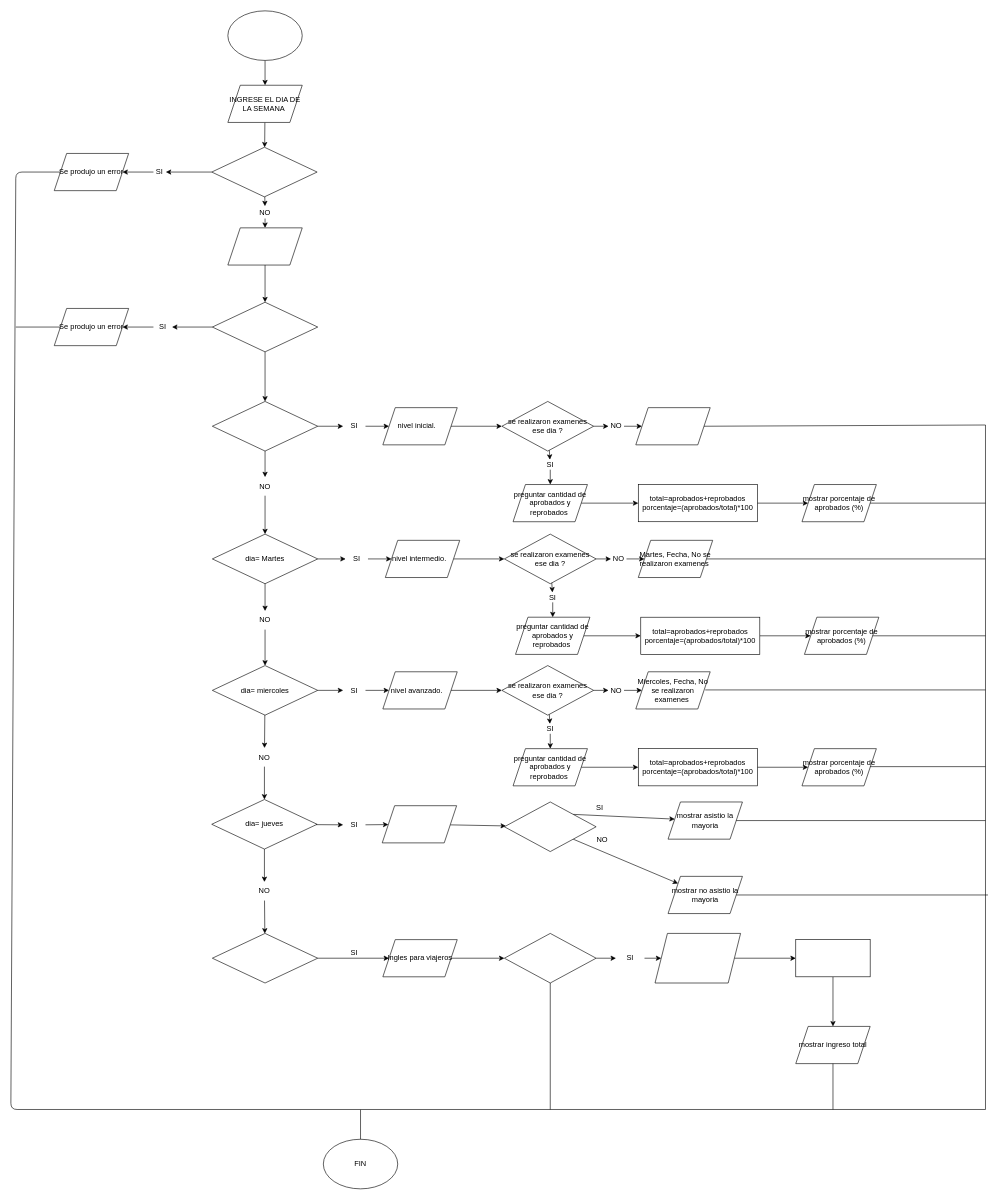
Some shapes in this 999 by 1200 pixel diagram are drawn without their labels. The shapes that lost their labels are listed below. From the top down, each one's centre as x and y in pixels, then its label:
At point (264, 35): "INICIO".
At point (264, 172): "DIA= sabado o domingo".
At point (264, 246): "ingrese la fecha (DD/MM)".
At point (265, 327): "fechadia>31 o fechames>12".
At point (265, 426): "dia= lunes".
At point (672, 426): "Lunes, Fecha, No se realizaron examenes".
At point (419, 824): "practica hablada,ingresar el porcentaje de asistencia".
At point (550, 826): "asistencia>50".
At point (265, 958): "dia= viernes".
At point (550, 958): "si fecha es 01/01 o 01/07".
At point (697, 958): "comienzo de nuevo ciclo, ingresar cantidad de alumnos y arancel por alumno".
At point (832, 958): "ingreso total= aumnos* arancel".
